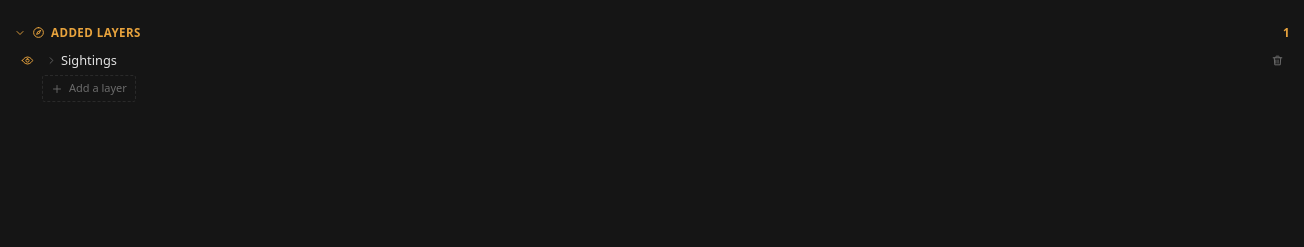
Test: finding a pin › offers the box under the groups, on a layer that is being drawn
Click the button with class "fold".
click(89, 60)  # box left=46, top=49, right=1262, bottom=72
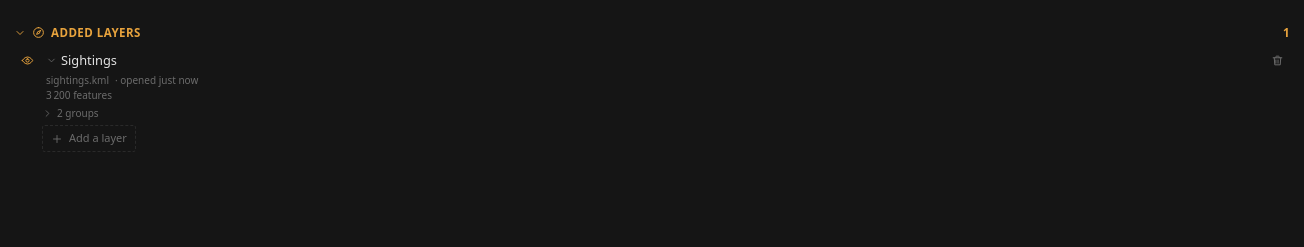
Click the button with class "legend-head".
click(57, 113)  # box left=16, top=103, right=99, bottom=123
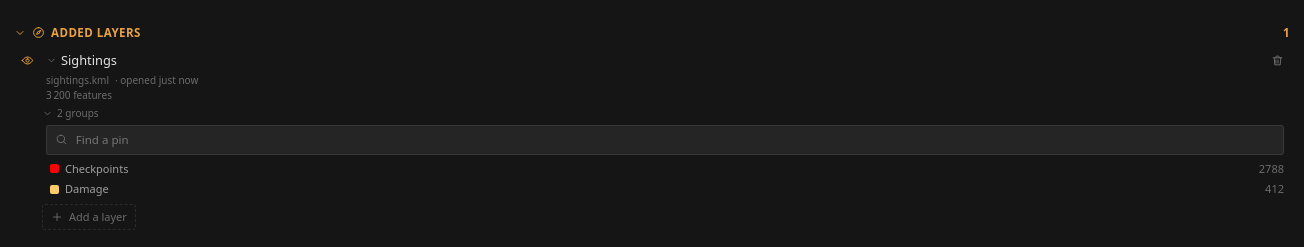
Expected: the field with placeholder "Find a pin" is shown, left=74, top=130, right=1275, bottom=150
